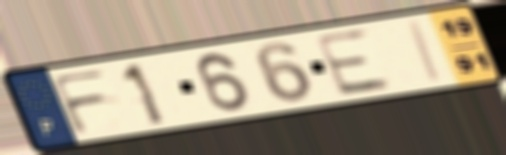1: (118, 60, 170, 127)
6: (251, 39, 315, 106), (193, 50, 254, 114)
E: (310, 27, 397, 99)
F: (47, 66, 114, 138)
I: (406, 17, 447, 85)
